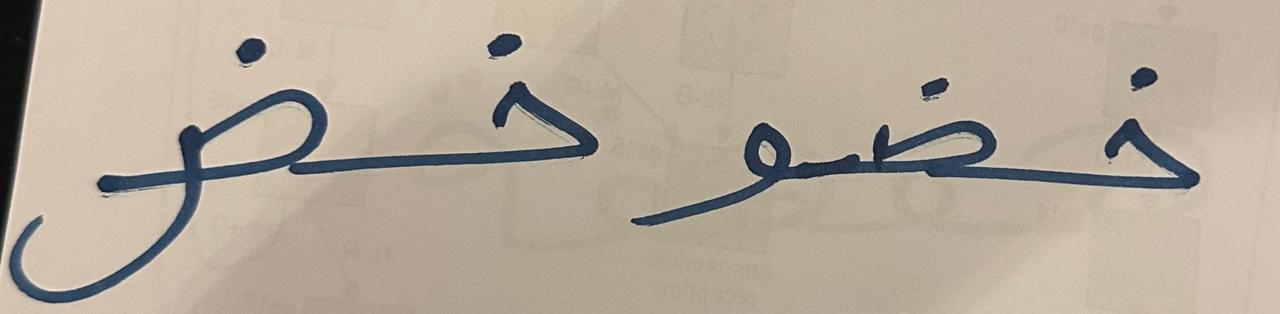dad: (38, 8, 370, 310), (820, 20, 1020, 263)
lam: (374, 0, 610, 266), (1025, 13, 1229, 261)
yeh: (615, 25, 817, 270)
